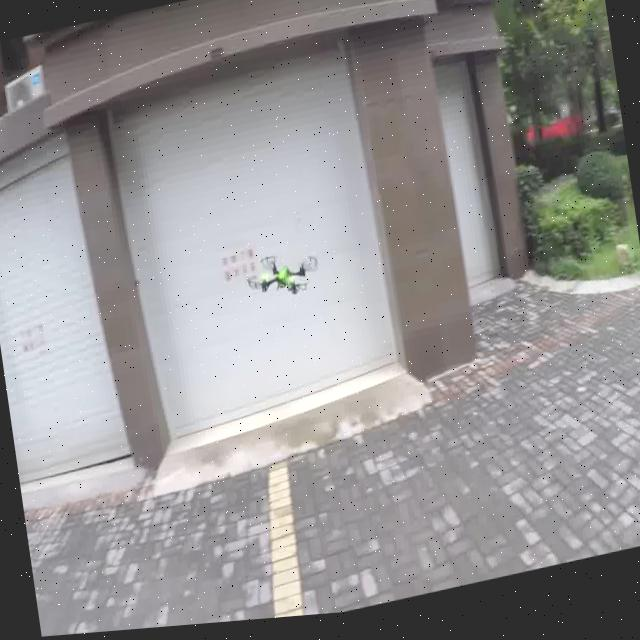drone: (248, 244, 324, 325)
